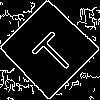T: (24, 24, 79, 78)
